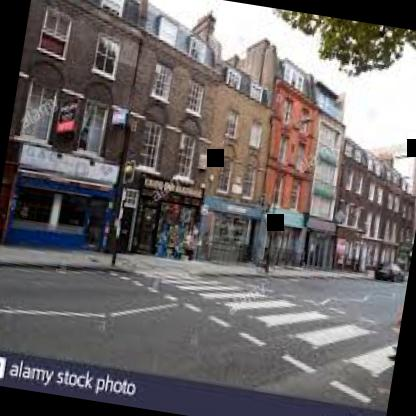car: (372, 257, 410, 288)
